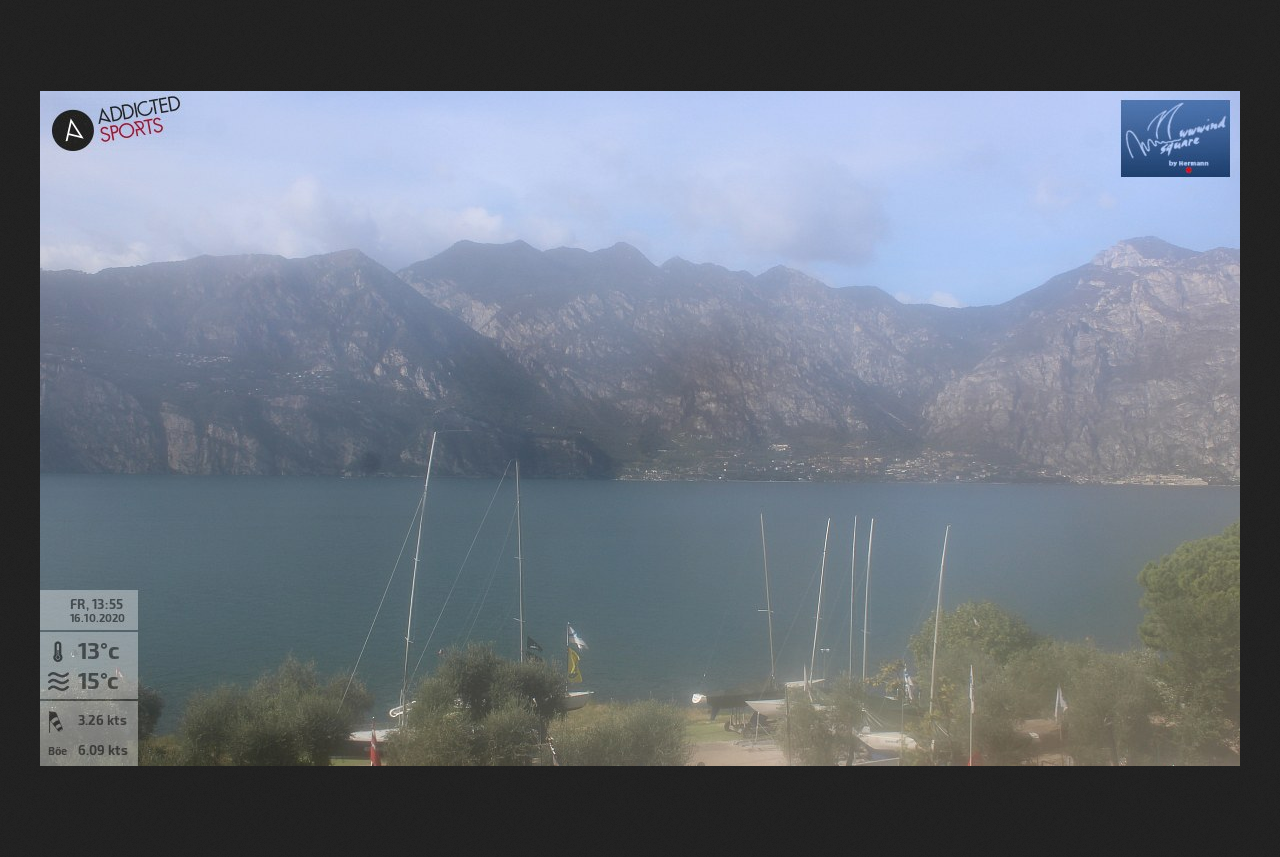maybe: (563, 618, 590, 651)
no: (965, 667, 978, 718)
